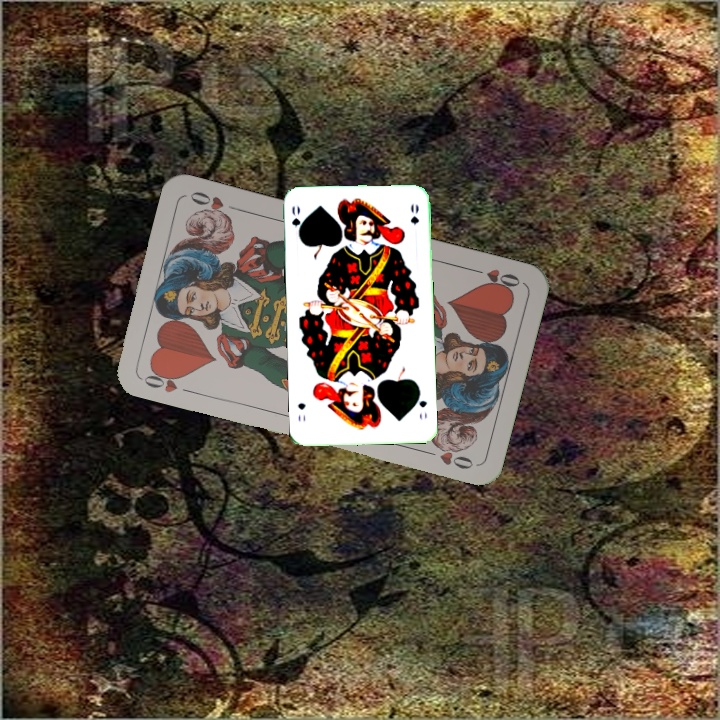GO: (288, 201, 305, 242), (412, 386, 429, 423)
HO: (466, 264, 523, 294), (139, 364, 187, 396)
